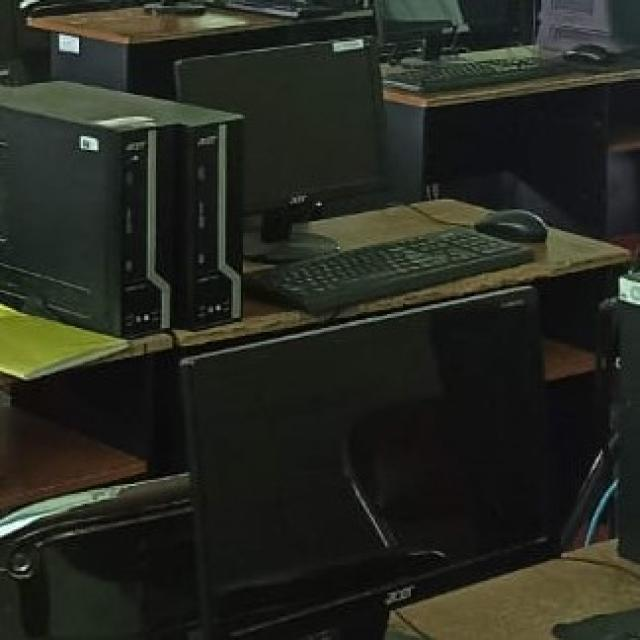onscreen: (184, 291, 563, 640), (177, 36, 396, 219)
